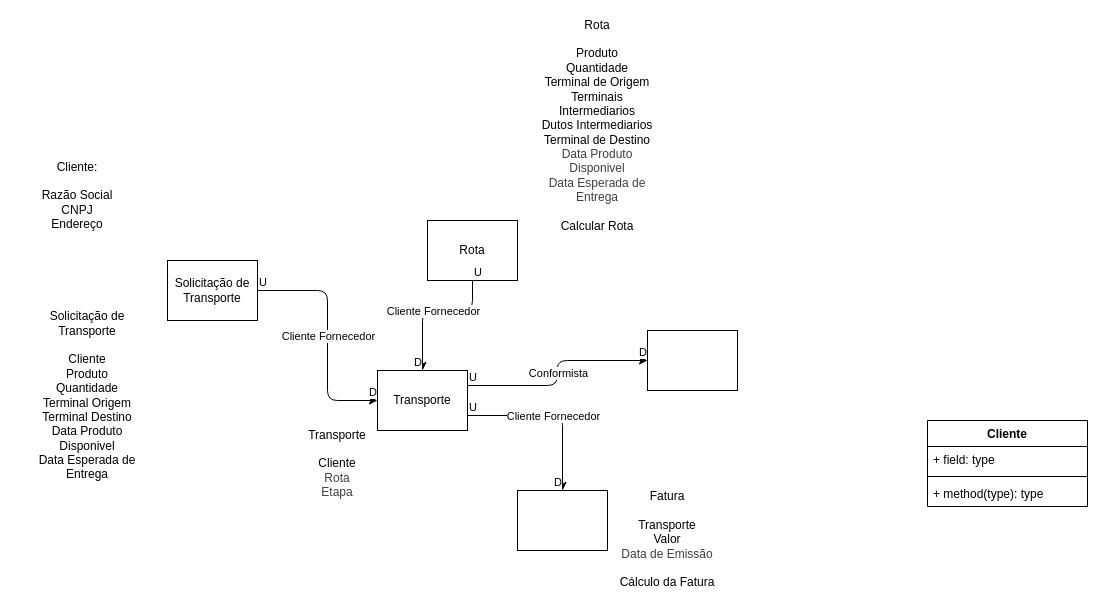
Some shapes in this 1105 by 611 pixel diagram are drawn without their labels. The centre of each missing label's shape, as x and y in pixels:
Faturamento: the point at 562,520
Relatório: the point at 692,360
